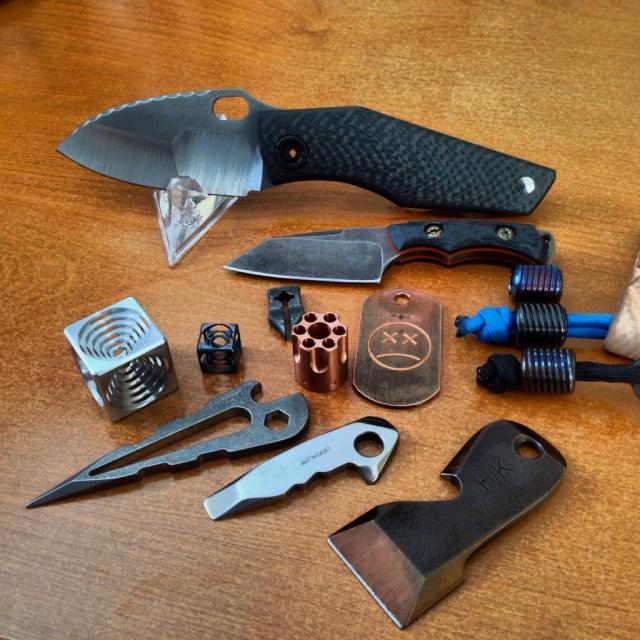Knife: (59, 89, 555, 214), (225, 221, 555, 283)
